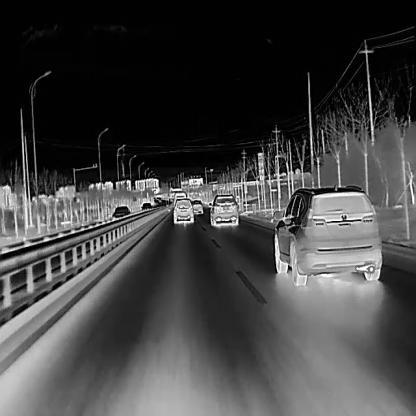car: (273, 184, 381, 286), (208, 192, 239, 225), (172, 197, 193, 224), (111, 205, 131, 222), (191, 198, 203, 214), (139, 201, 153, 213)
